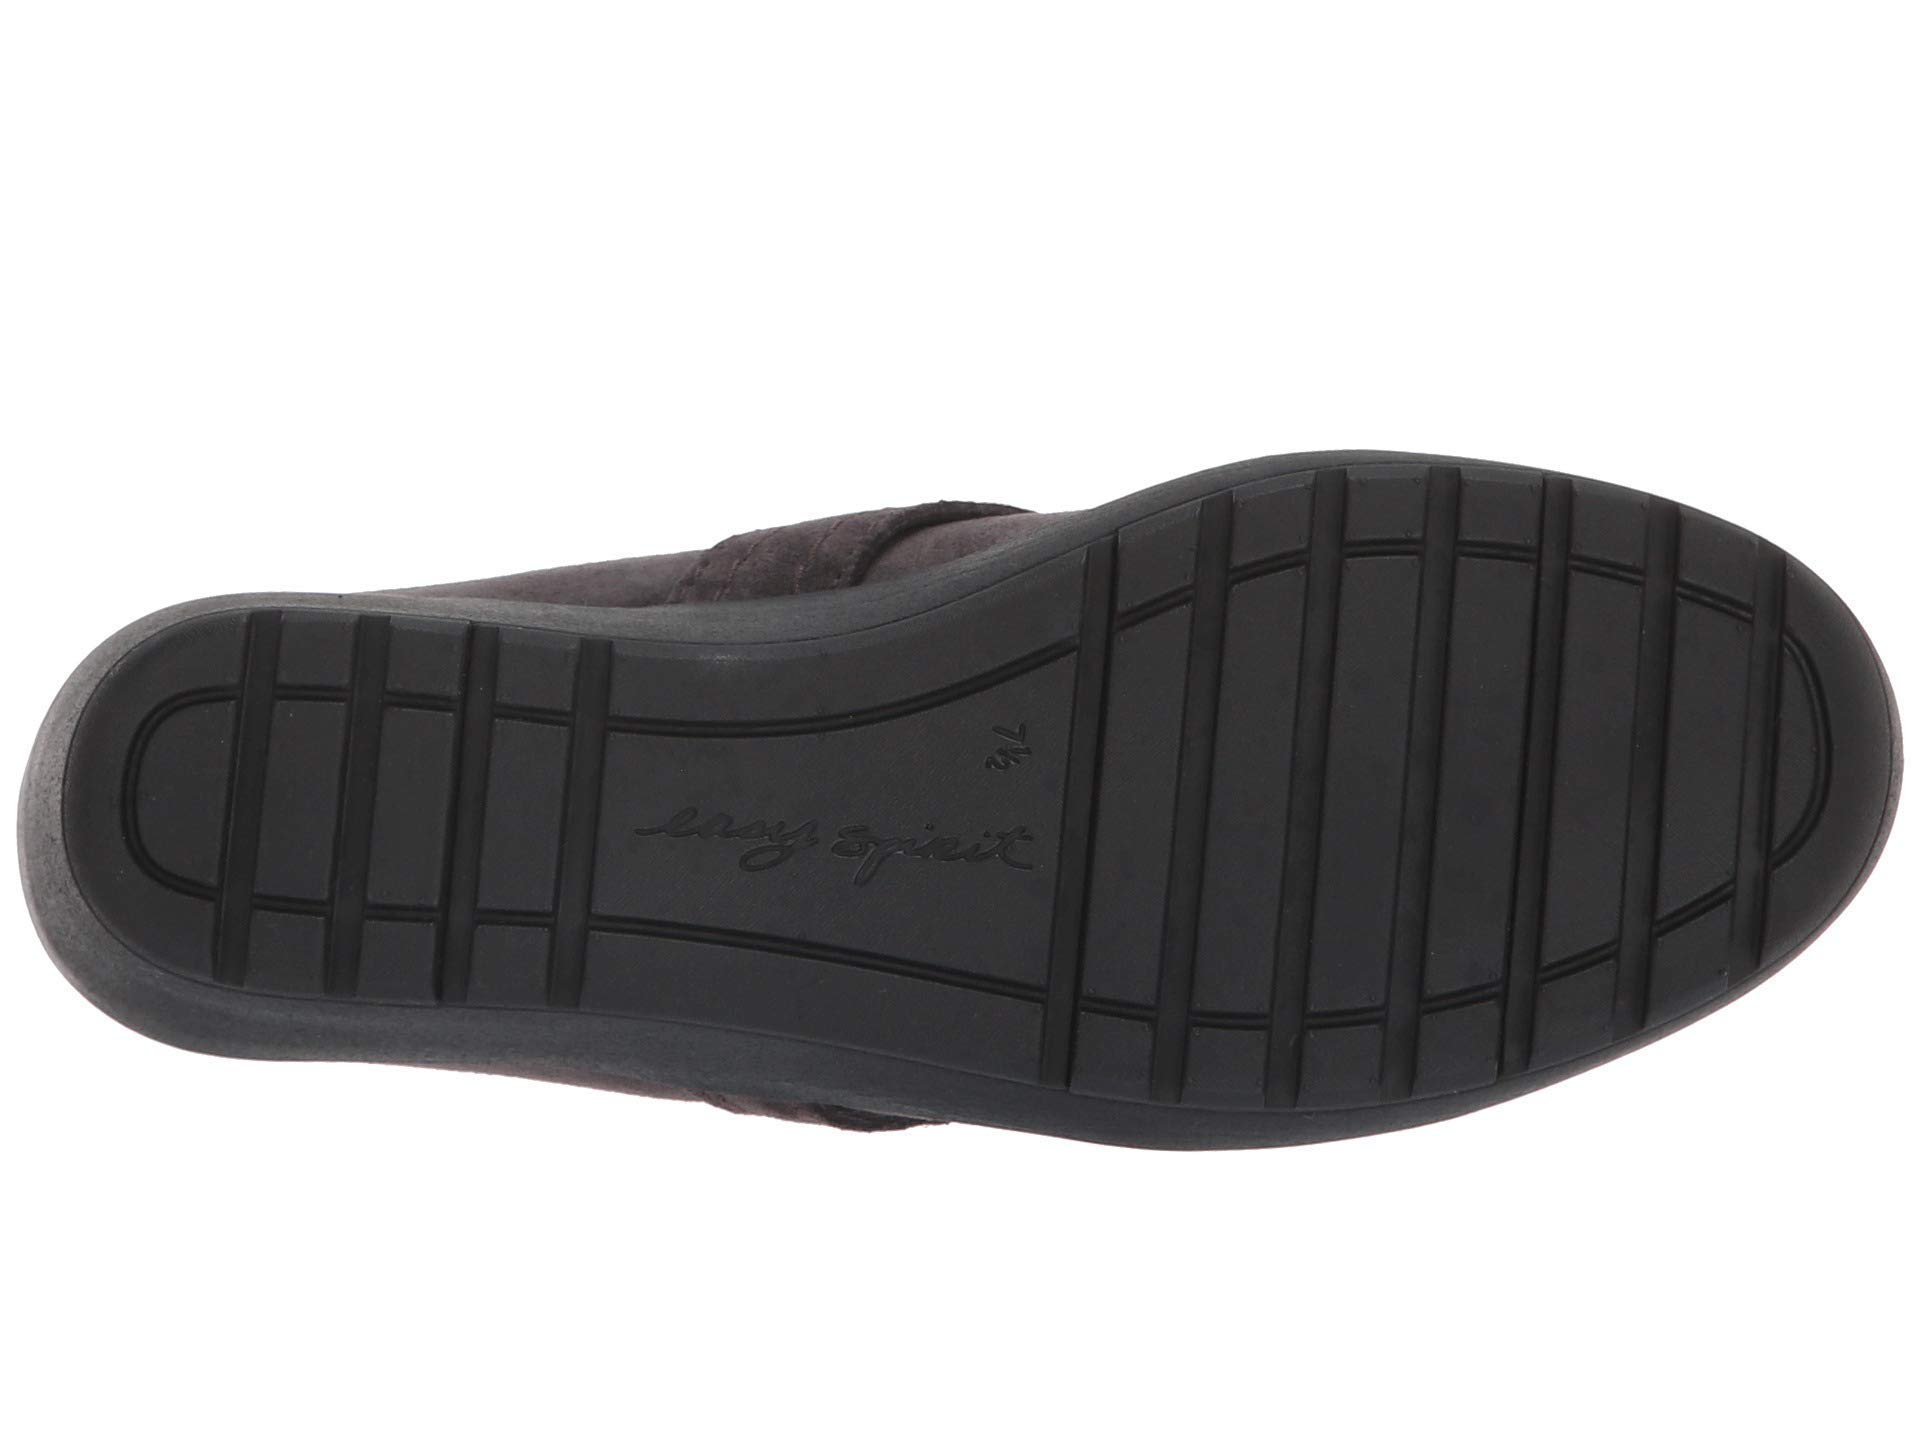line: (104, 607, 497, 998), (1439, 458, 1835, 830), (1418, 836, 1782, 1172), (838, 790, 1070, 1012), (612, 793, 830, 1003)
quad: (104, 607, 497, 998), (1439, 458, 1835, 830), (1418, 836, 1782, 1172)
text: (838, 790, 1070, 1012), (612, 793, 830, 1003), (949, 702, 1055, 802)
